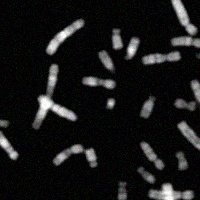chromosome: (33, 64, 59, 129), (45, 18, 84, 55), (38, 95, 76, 121), (177, 121, 200, 160), (171, 0, 196, 34), (140, 141, 164, 169), (53, 143, 84, 164), (149, 187, 195, 200), (142, 51, 180, 66), (0, 130, 19, 160), (82, 77, 116, 89), (171, 35, 200, 48), (141, 95, 157, 118), (163, 183, 183, 200), (125, 36, 139, 59), (98, 51, 113, 71), (192, 80, 200, 114), (175, 97, 195, 110), (138, 168, 155, 183), (86, 148, 98, 167), (112, 29, 122, 49), (176, 152, 187, 170), (118, 182, 127, 200), (107, 98, 115, 110), (0, 119, 8, 127), (198, 51, 200, 61)
